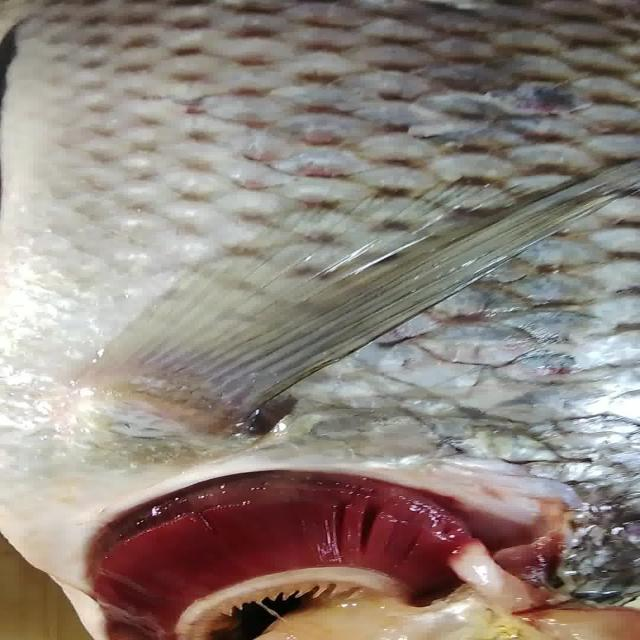Fresh: (46, 470, 518, 632)
